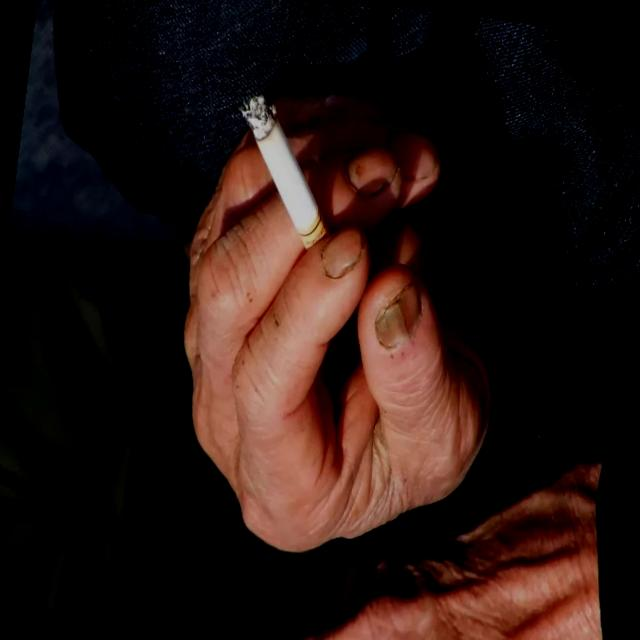cigarette: (222, 92, 338, 229)
